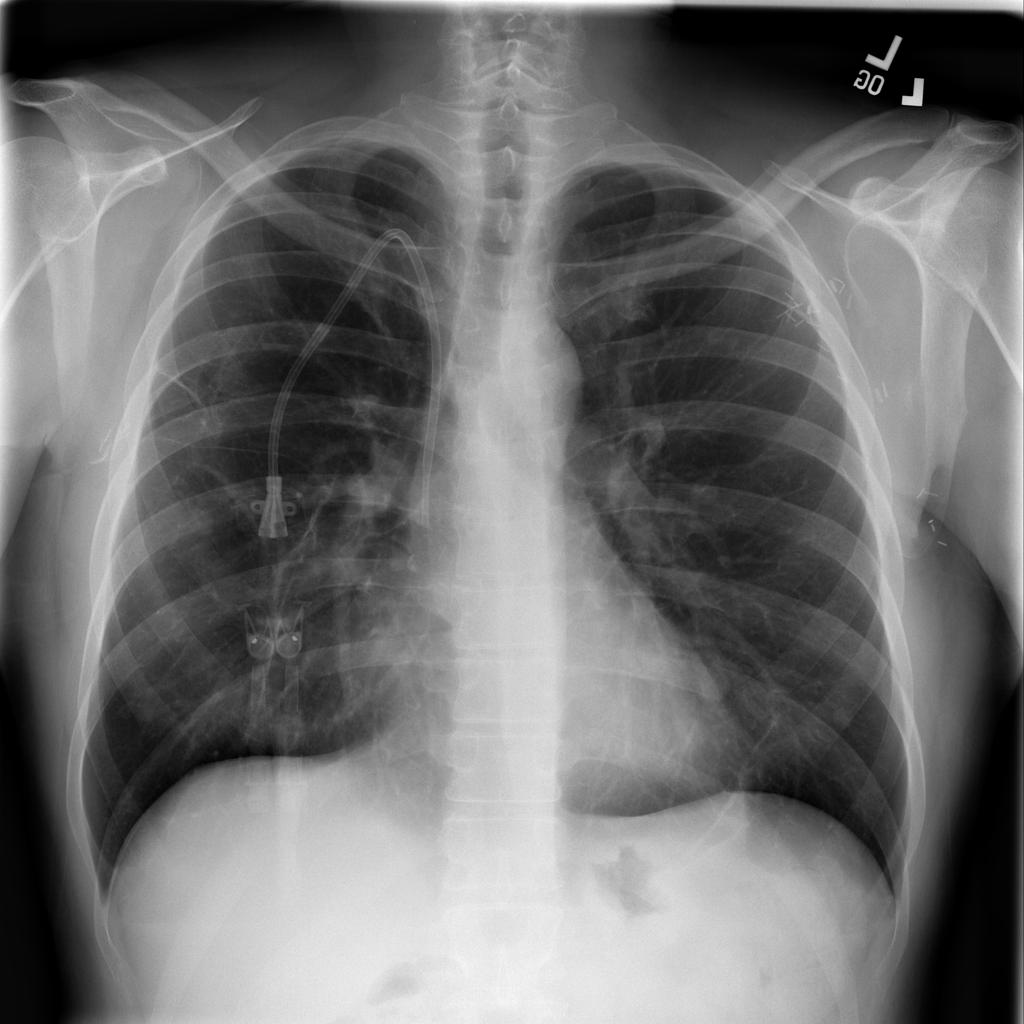nodule: (673, 641, 747, 713), (821, 688, 870, 741)
